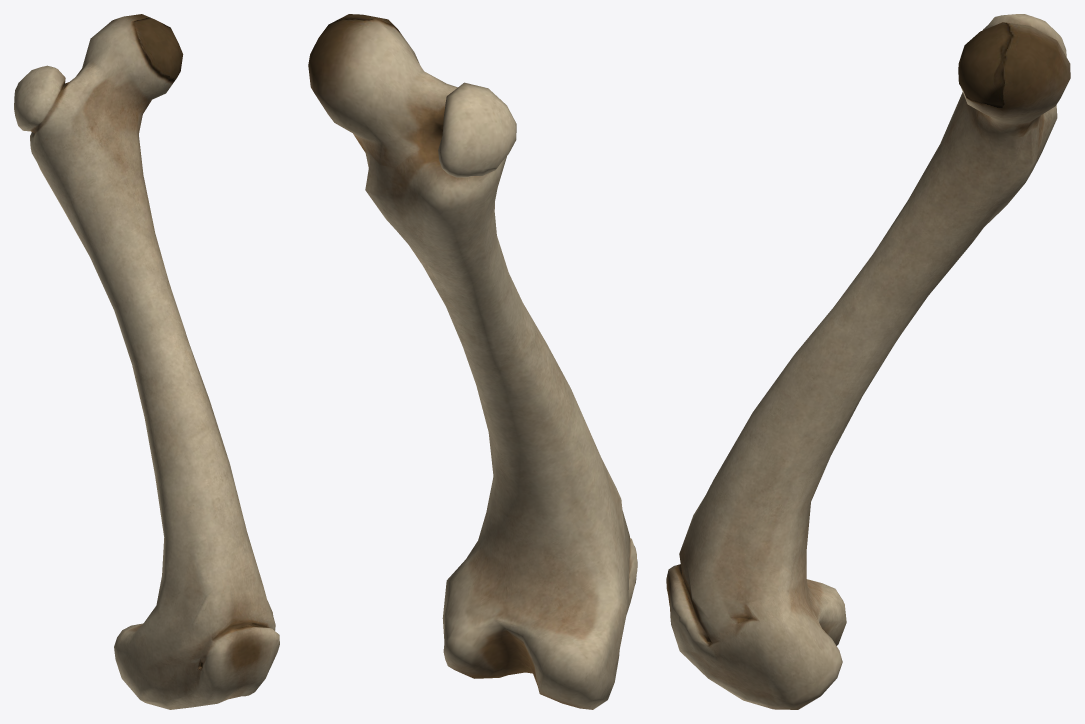
The model's file is Femur.glb.
The picture shows the model from 3 angles, left to right: view 1: azimuth 30°, elevation 25°; view 2: azimuth 150°, elevation 25°; view 3: azimuth 270°, elevation 25°; orthographic projection. The views are drawn at different scales.
Parts seen in each view (by area): view 1: Femur_Right1:Femur_Right; view 2: Femur_Right1:Femur_Right; view 3: Femur_Right1:Femur_Right.
Part boxes in pixels (x1,y1,x2,y2): Femur_Right1:Femur_Right: (14, 14, 279, 709); Femur_Right1:Femur_Right: (308, 14, 637, 709); Femur_Right1:Femur_Right: (666, 14, 1070, 709).
Bounding box in the file's own units: 33.29 × 123 × 65.55.
Materials: 1 (1 with a texture image).
